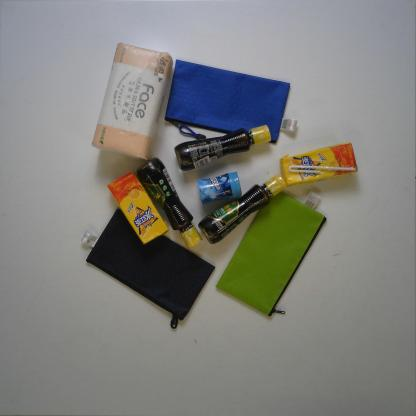Drink: (106, 170, 170, 246), (278, 142, 360, 188)
Gum: (196, 170, 244, 206)
Seasoner: (197, 174, 289, 246), (136, 156, 203, 249), (173, 124, 272, 172)
Stationery: (80, 207, 216, 329), (213, 189, 328, 319), (163, 59, 302, 144)
Tissue: (91, 40, 174, 162)
